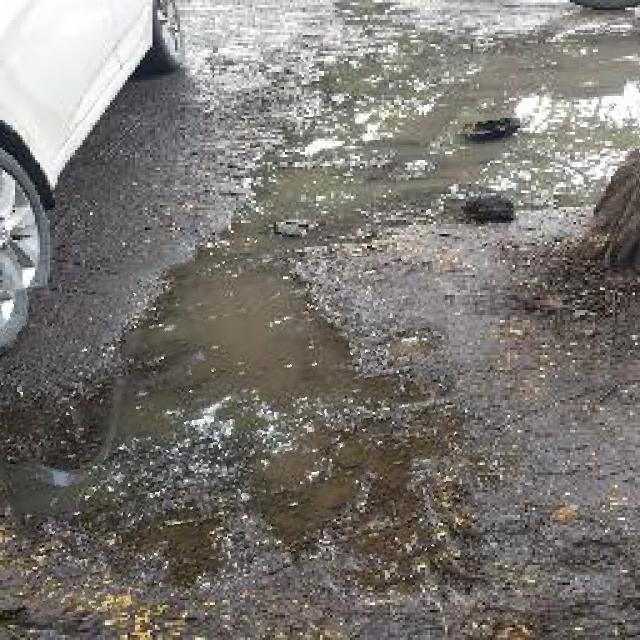puddle: (1, 242, 472, 607), (215, 35, 640, 258)
